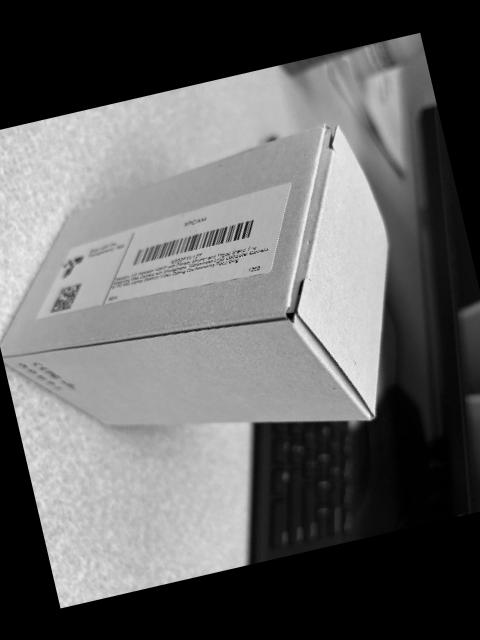CameraBox1: (0, 125, 387, 427)
